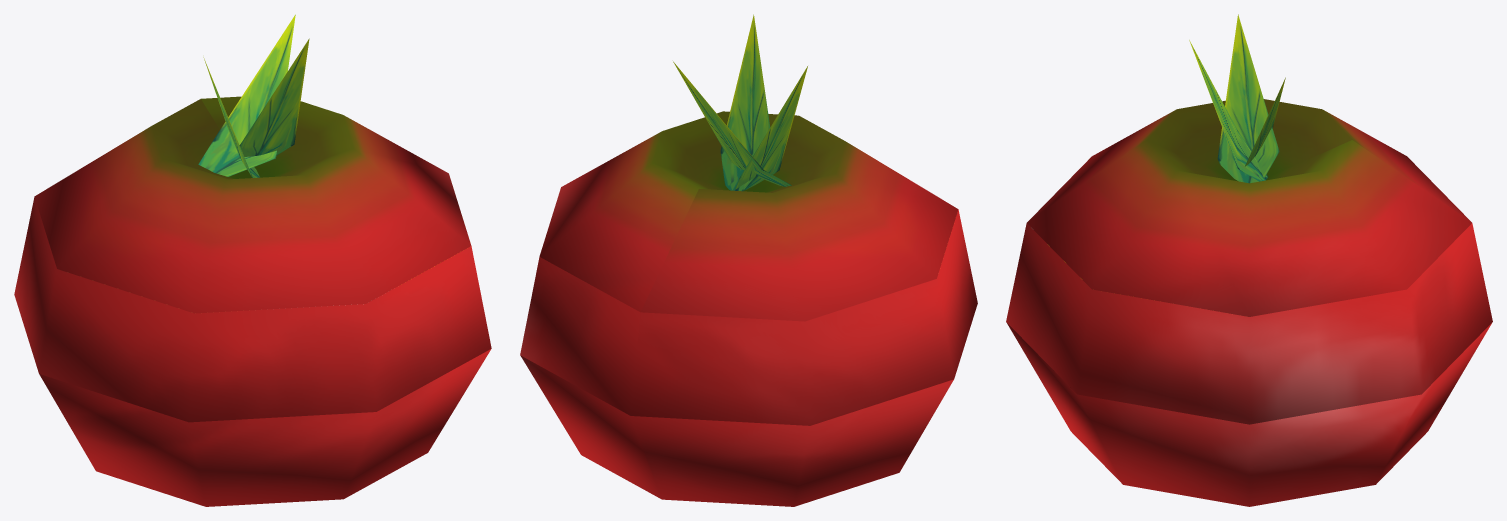
File: Tomato_slice.fbx
3 views of the same model, side by side, from view 1: azimuth 30°, elevation 25°; view 2: azimuth 150°, elevation 25°; view 3: azimuth 270°, elevation 25° (orthographic). The views are drawn at different scales.
Visible parts, largest first — view 1: Tomato_01, Tomato_02, Tomato_03; view 2: Tomato_01, Tomato_02, Tomato_03; view 3: Tomato_01, Tomato_02, Tomato_03.
Part boxes in pixels (x1,y1,x2,y2): Tomato_01: [34, 14, 471, 313]; Tomato_02: [14, 197, 491, 422]; Tomato_03: [39, 349, 490, 506]; Tomato_01: [539, 14, 958, 321]; Tomato_02: [520, 209, 977, 425]; Tomato_03: [520, 355, 953, 506]; Tomato_01: [1027, 14, 1471, 316]; Tomato_02: [1006, 159, 1492, 424]; Tomato_03: [1006, 322, 1491, 506].
Bounding box in the file's own units: 19.95 × 20.4 × 19.95.
